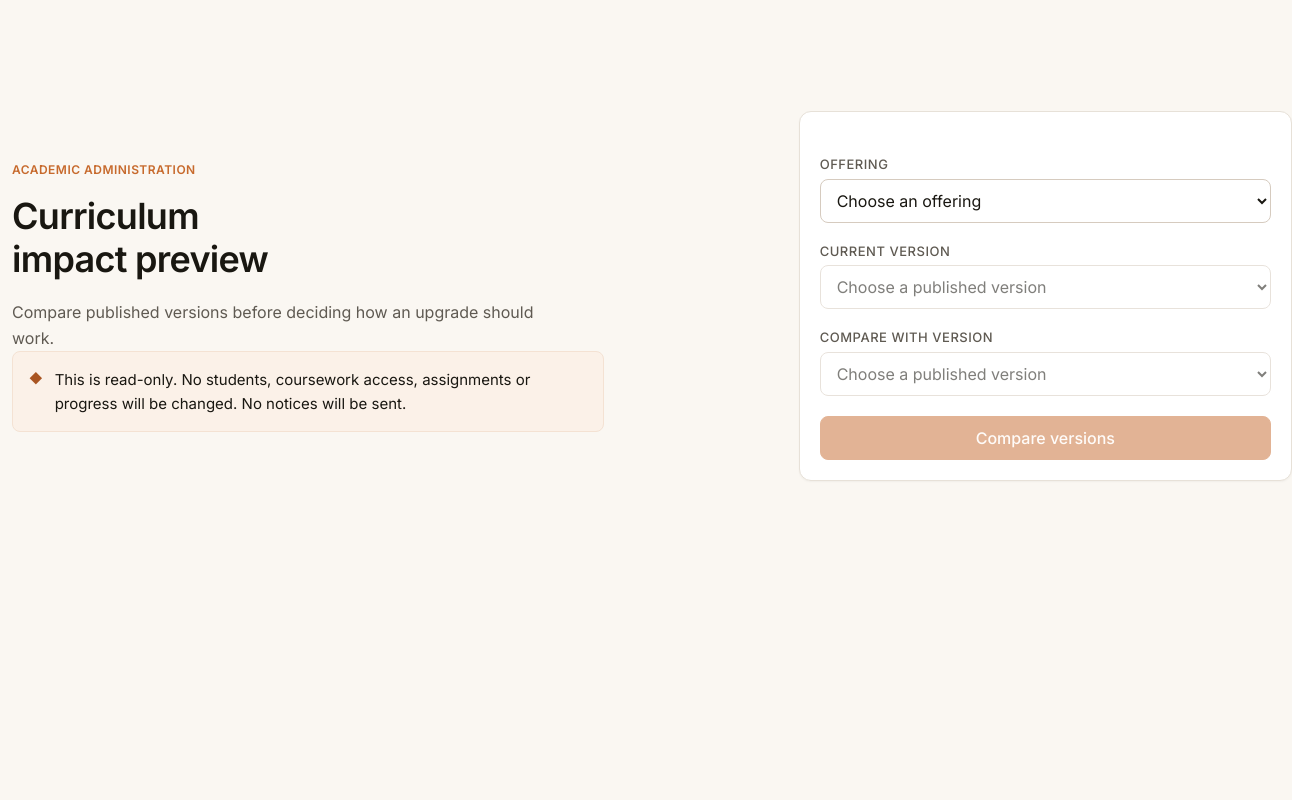
Test: curriculum impact page › compares selected published versions without a migration control
Select "Fictional course" in the dropdown labelled "Offering". click: (1045, 200)
box: [820,178,1271,222]
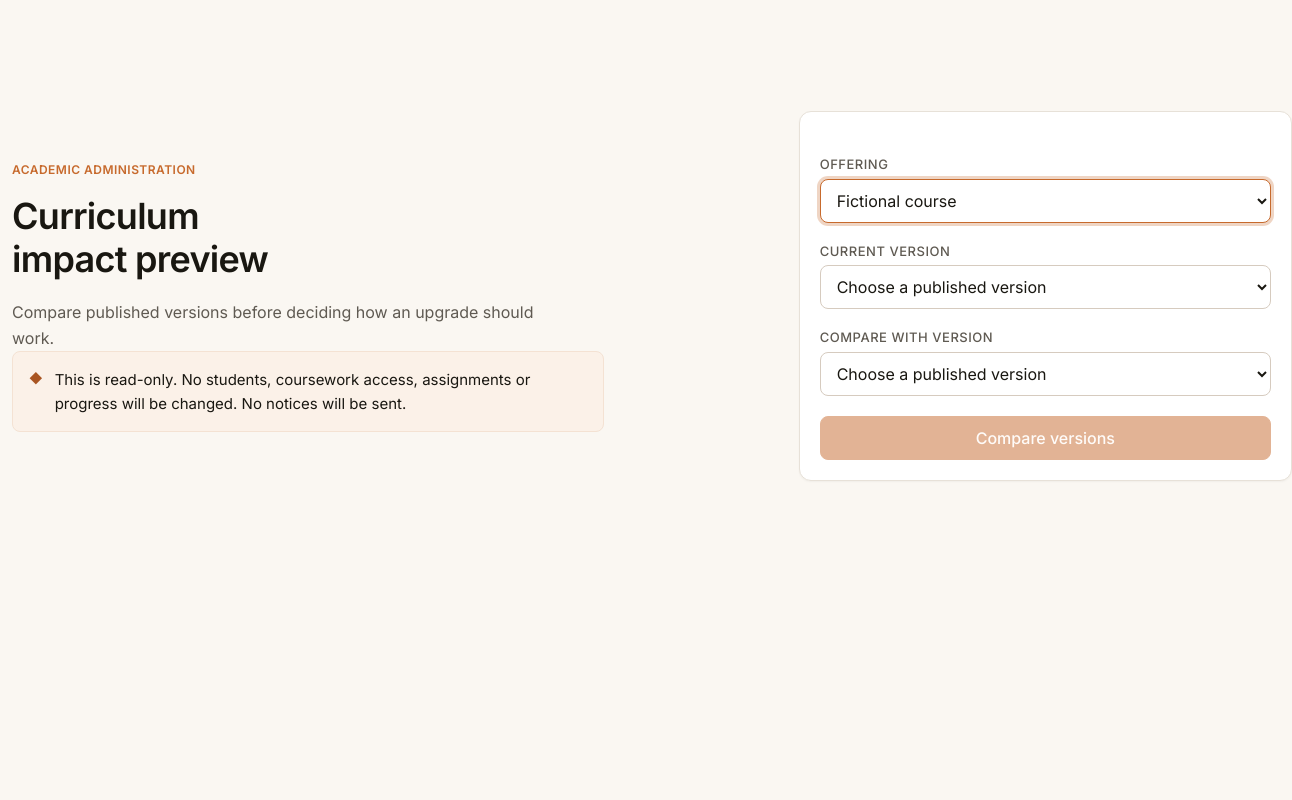
Select "Source · v1" in the dropdown labelled "Current version". click: (1045, 287)
box: [820,265,1271,309]
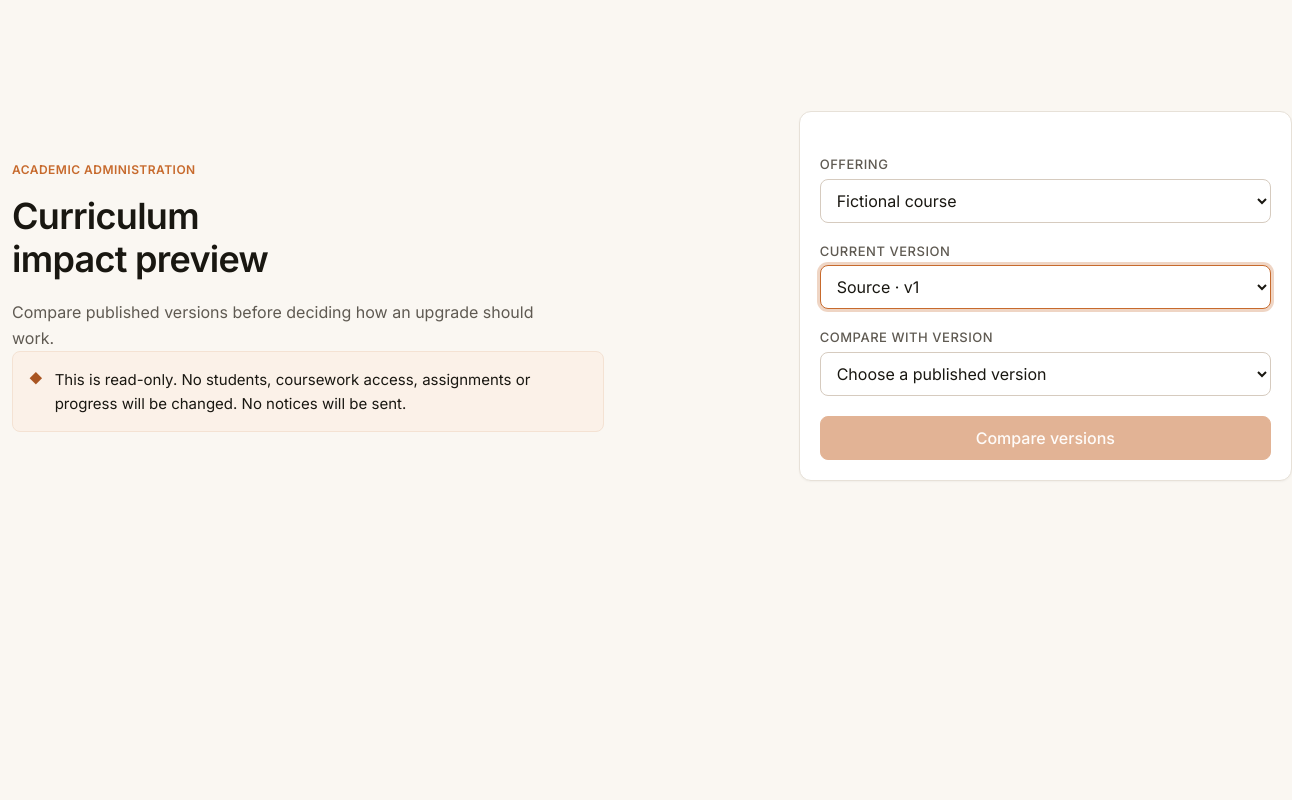
Select "Source · v1" in the dropdown labelled "Compare with version". click: (1045, 374)
box: [820,352,1271,396]
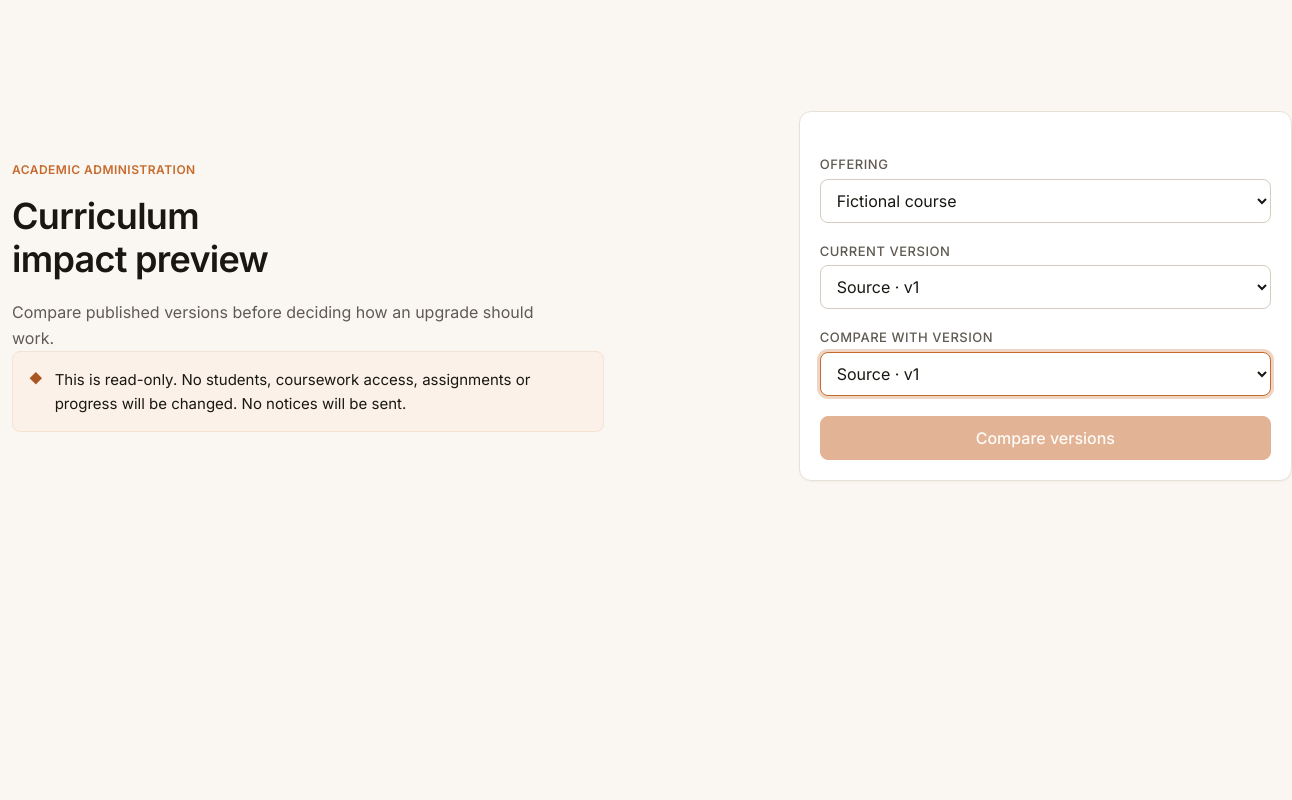
Expected: the button "Compare versions" is disabled, [820,416,1271,460]
Select "Target · v2" in the dropdown labelled "Compare with version". click: (1045, 374)
box: [820,352,1271,396]
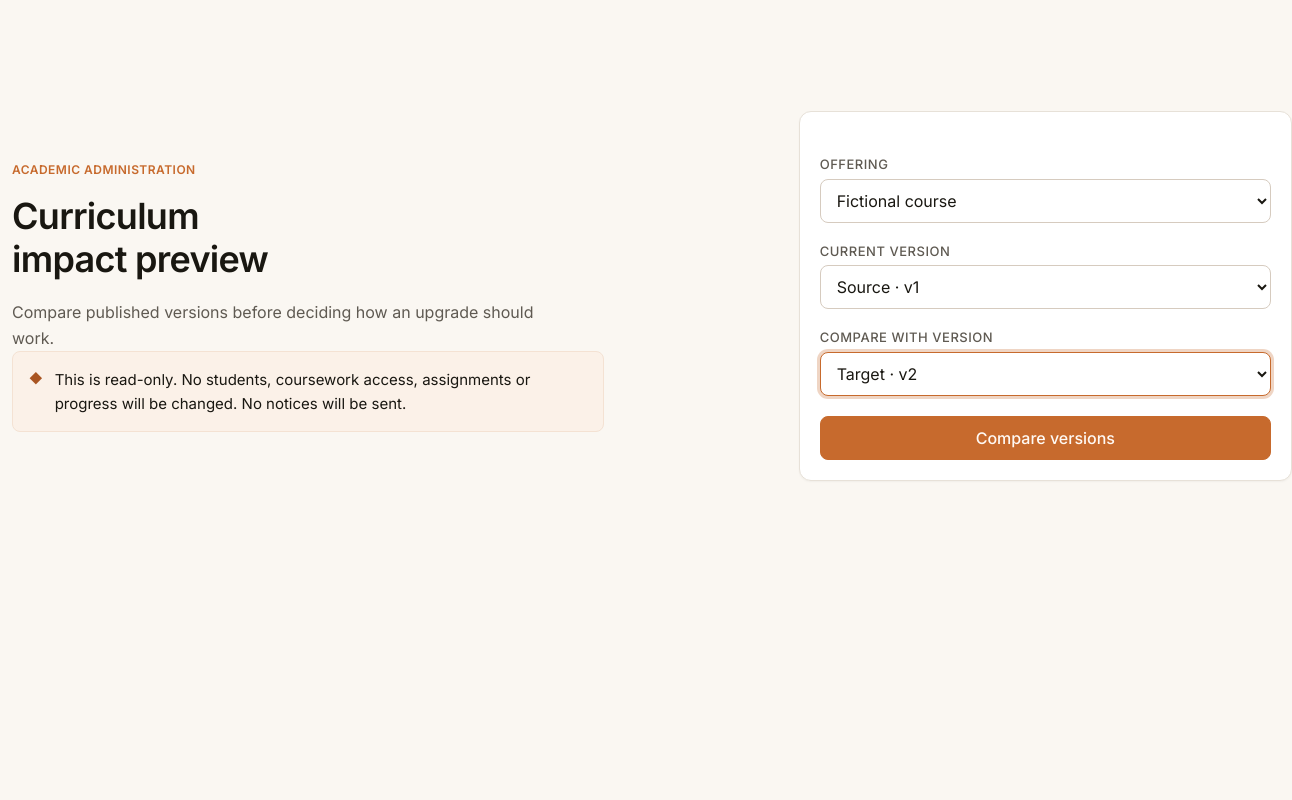
Click the button "Compare versions". click: click(1045, 438)
box: [820,416,1271,460]
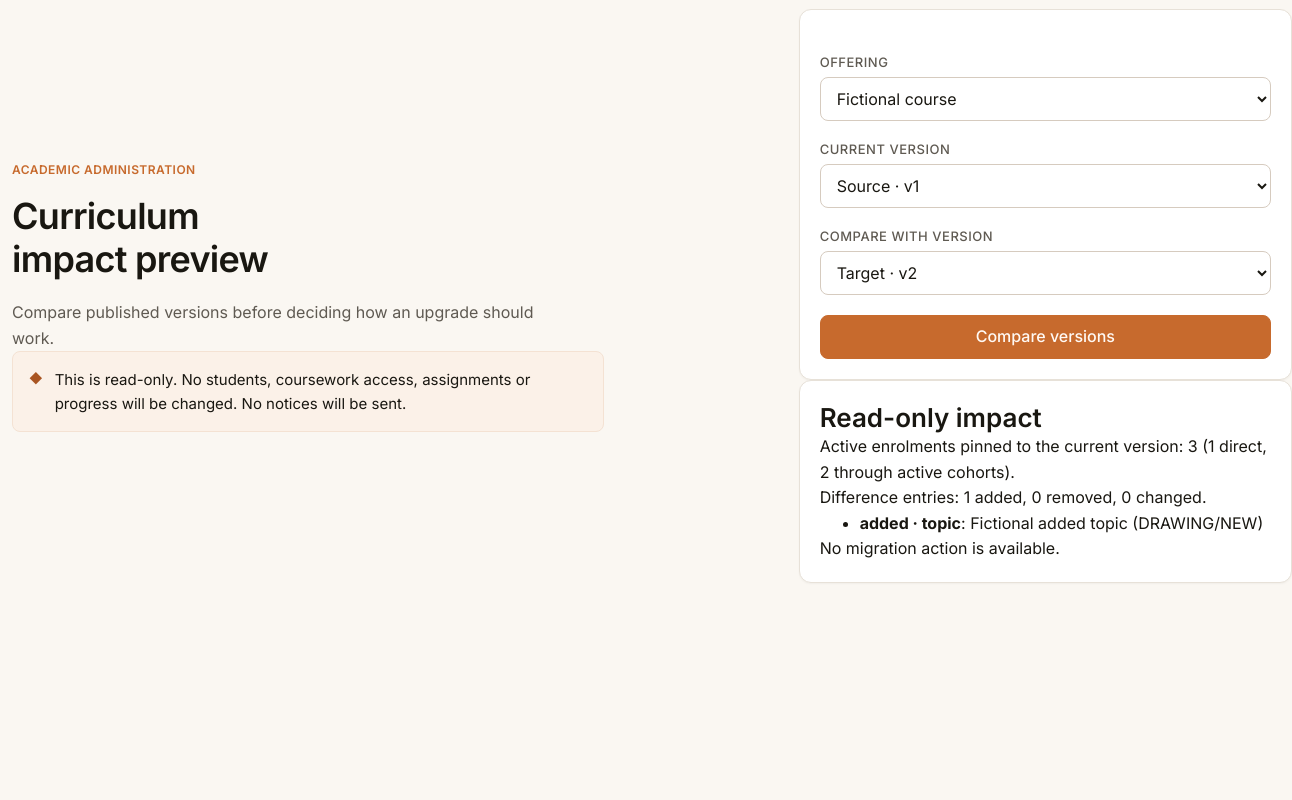
Result: the heading "Read-only impact" is shown at [820,402,1042,433]
Result: the text "No migration action is available." is shown at [820,538,1060,558]
